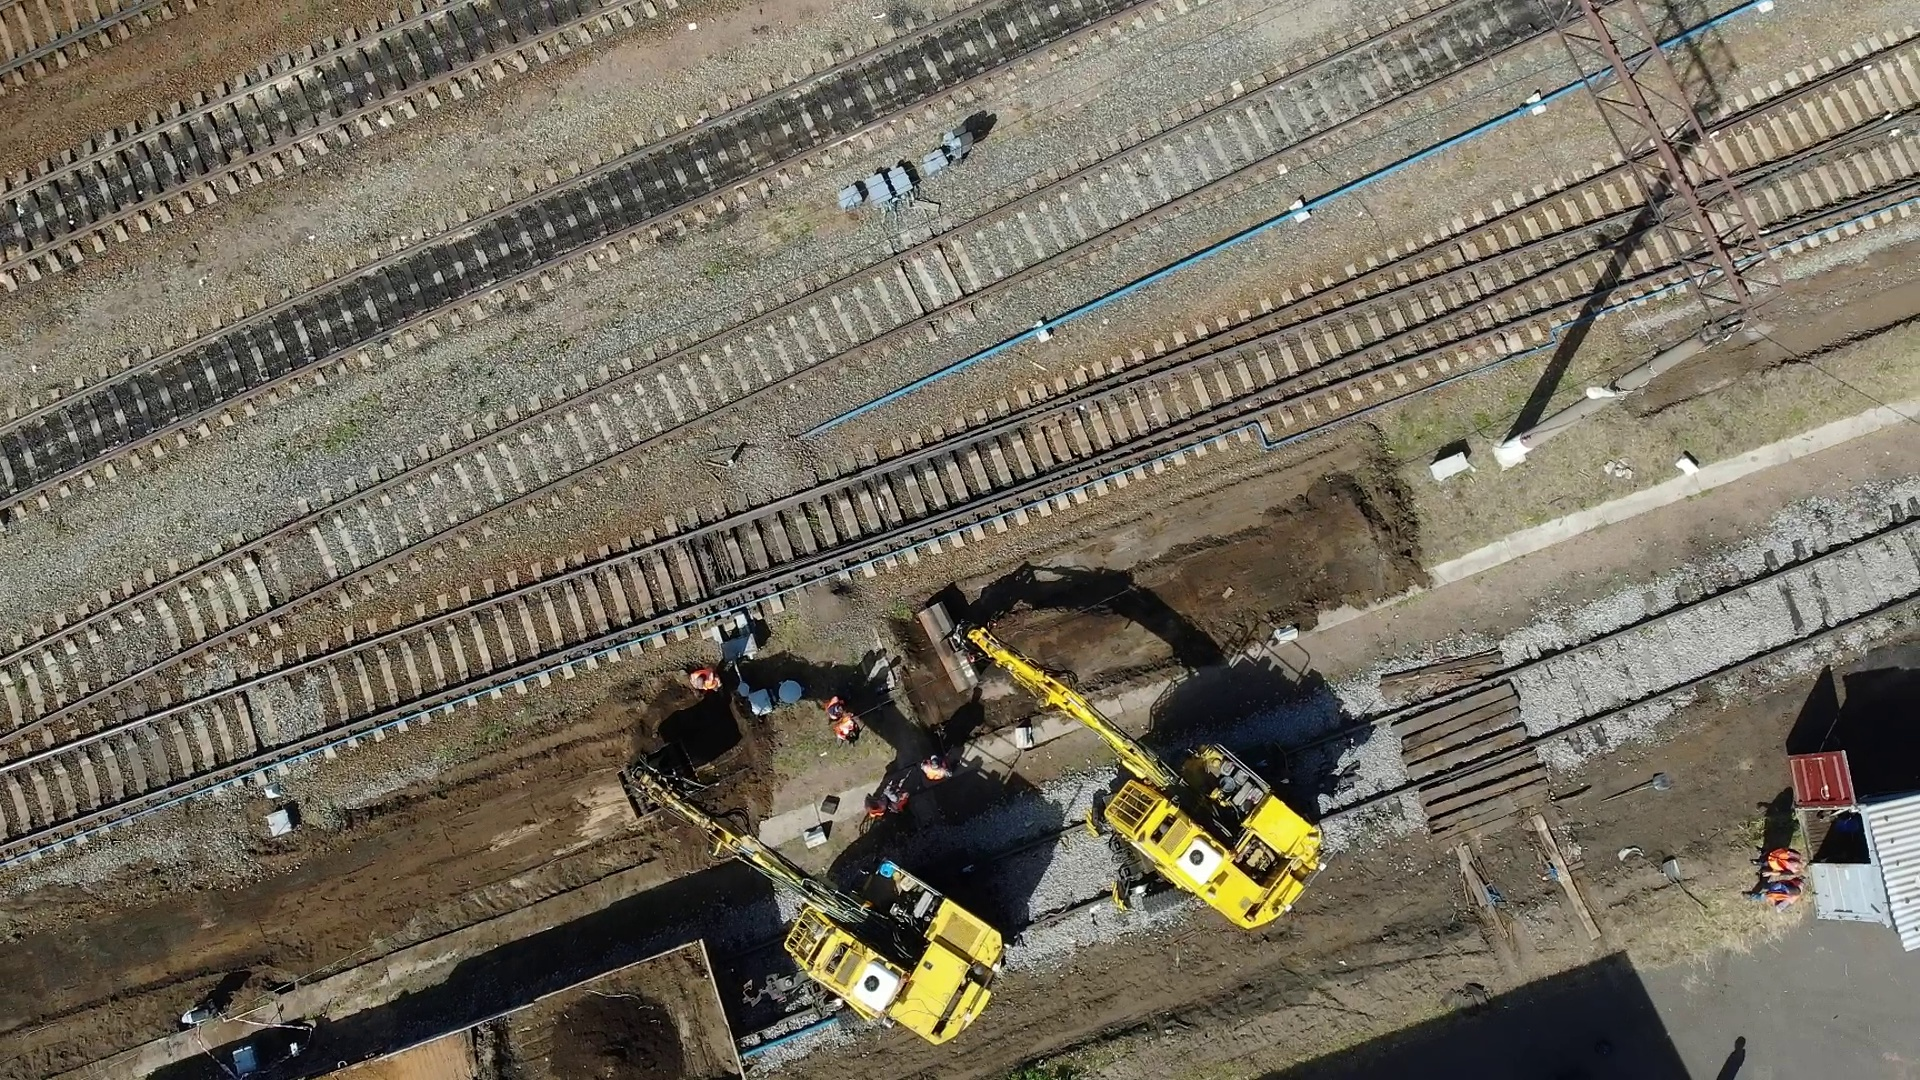kjtv: (1060, 694, 1322, 929), (752, 851, 997, 1038)
